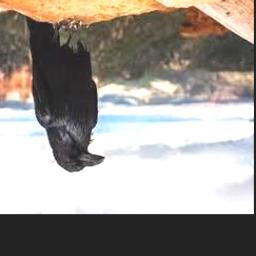Crow: (26, 17, 105, 173)
